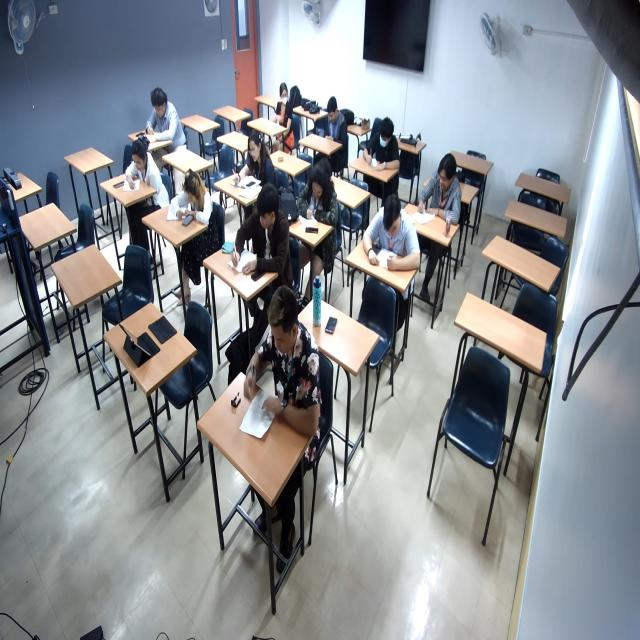read: (239, 298, 325, 453), (361, 199, 425, 277), (227, 199, 287, 282), (227, 133, 282, 200), (163, 172, 215, 242), (295, 162, 343, 230), (420, 165, 464, 229), (362, 116, 402, 182), (142, 90, 182, 151), (117, 143, 160, 199)
